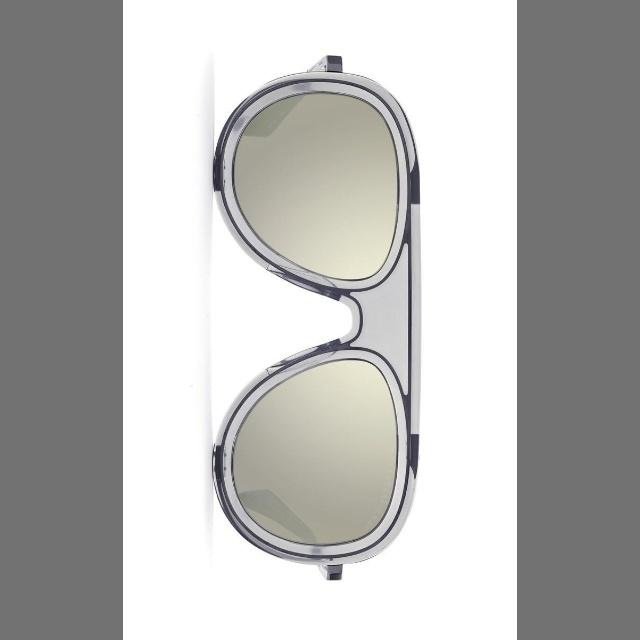Sunglasses: (180, 38, 472, 594)
